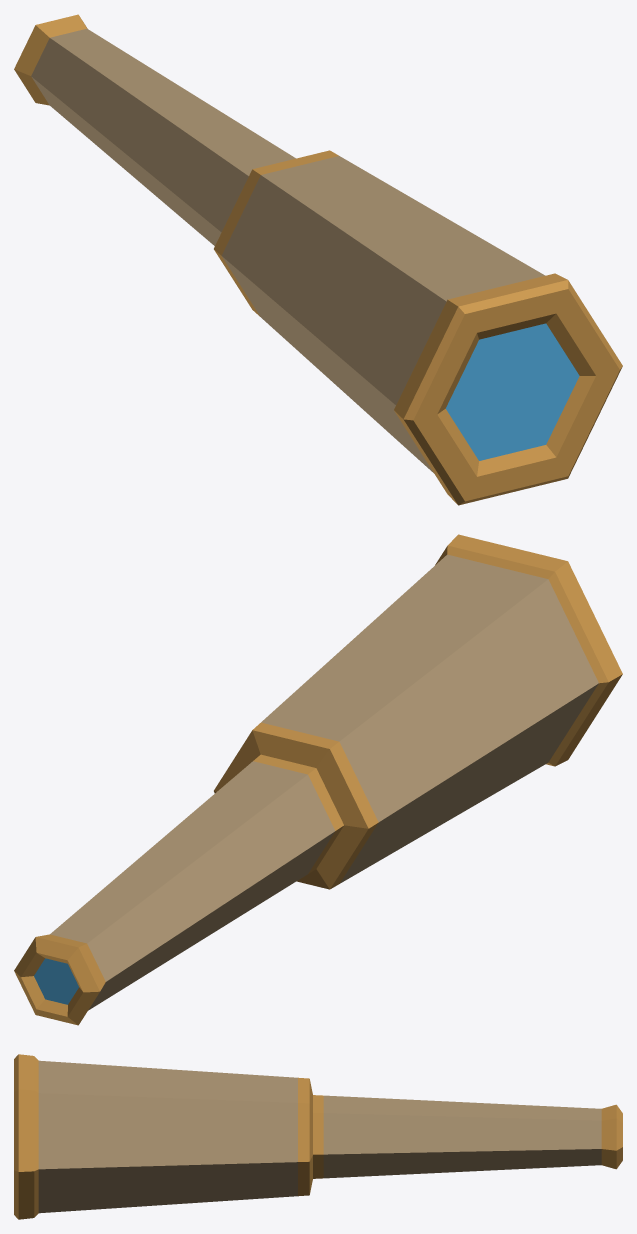
Rendered from Spyglass.fbx.
3 renders of one model, top to bottom at view 1: azimuth 30°, elevation 25°; view 2: azimuth 150°, elevation 25°; view 3: azimuth 270°, elevation 25°, orthographic. The views are drawn at different scales.
Visible parts, largest first — view 1: Spyglass; view 2: Spyglass; view 3: Spyglass.
Boxes of the visible parts, x1,y1,x2,y2 form: Spyglass: (14, 14, 622, 505); Spyglass: (14, 534, 622, 1025); Spyglass: (14, 1054, 622, 1219).
Bounding box in the file's own units: 25.58 × 22.16 × 93.79.
